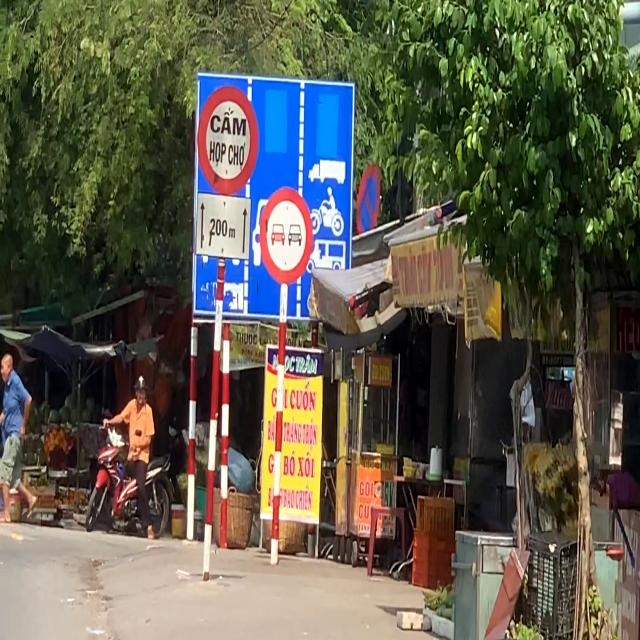bien_cam: (260, 178, 314, 283)
